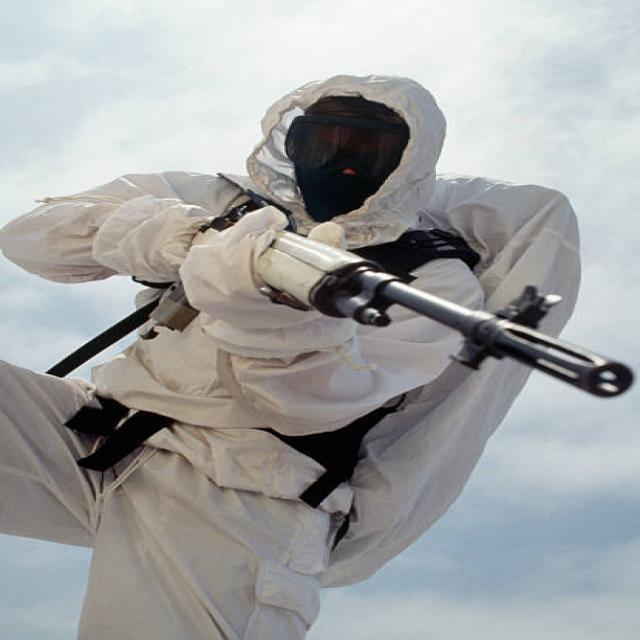soldier: (5, 69, 640, 640)
